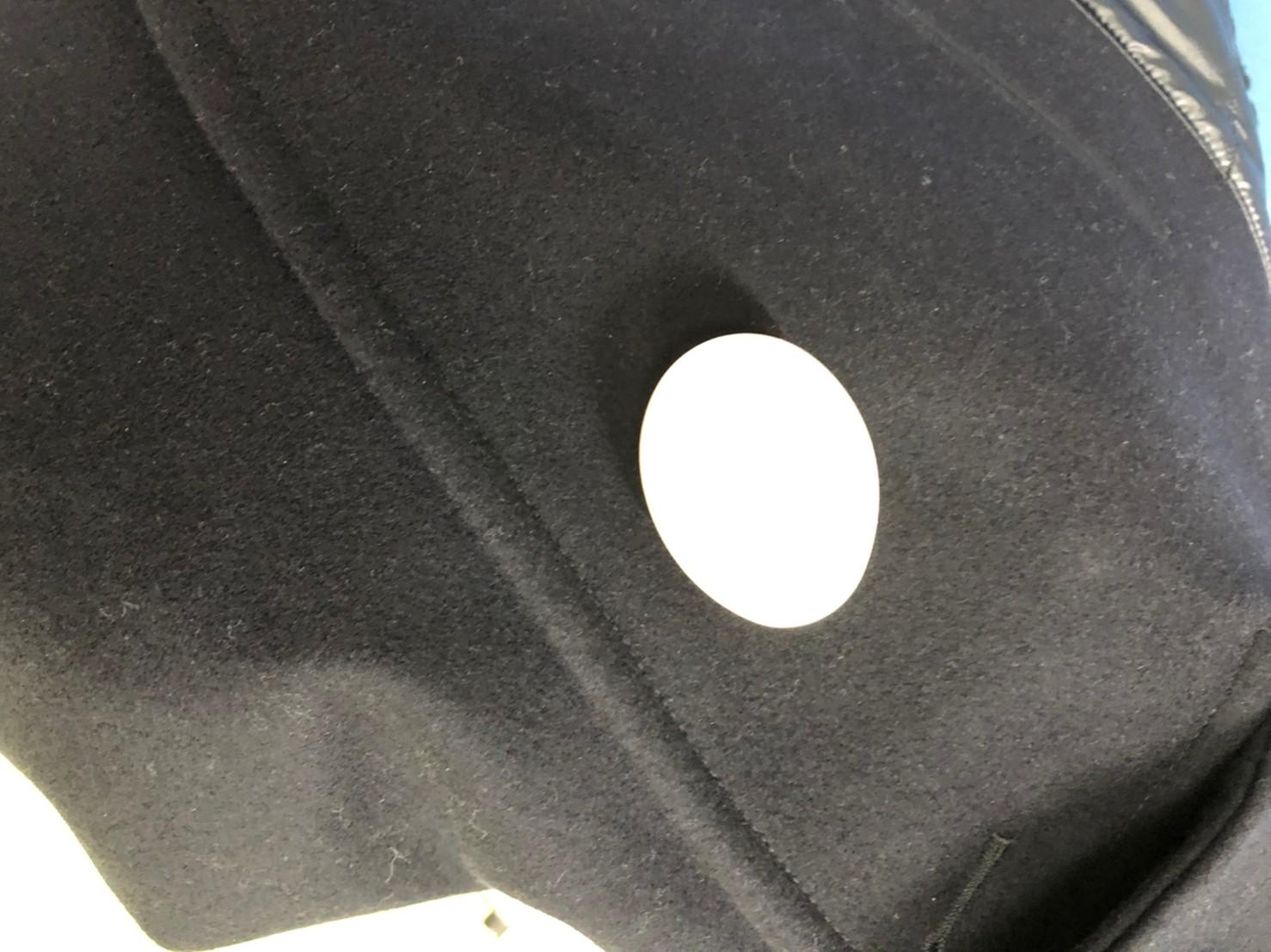egg: (629, 323, 885, 632)
